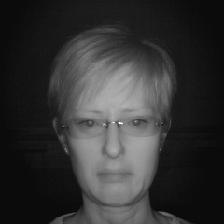sad: (42, 28, 178, 209)
